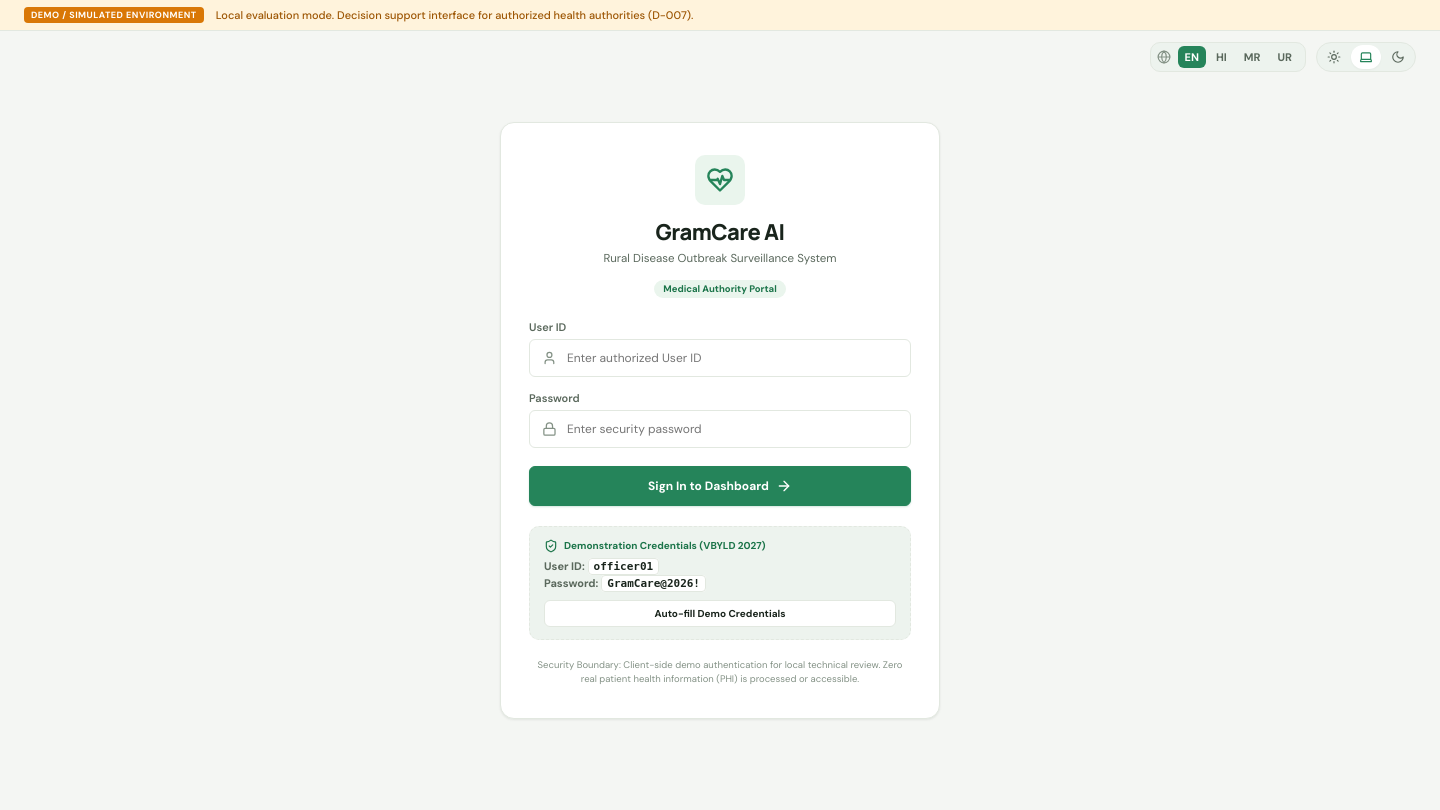
Test case: GramCare AI Dashboard MVP — 100+ Synthetic Patients & Authentication Verification › Authentication & Protected Route Security › authenticates with predefined demo credentials and navigates to dashboard
Auto-fill demo credentials or type them in
What coordinates should you click on to do the following:
click the button with test id "auto-fill-demo-creds"
I would click on:
 (720, 613)
Its box is left=544, top=600, right=896, bottom=627.
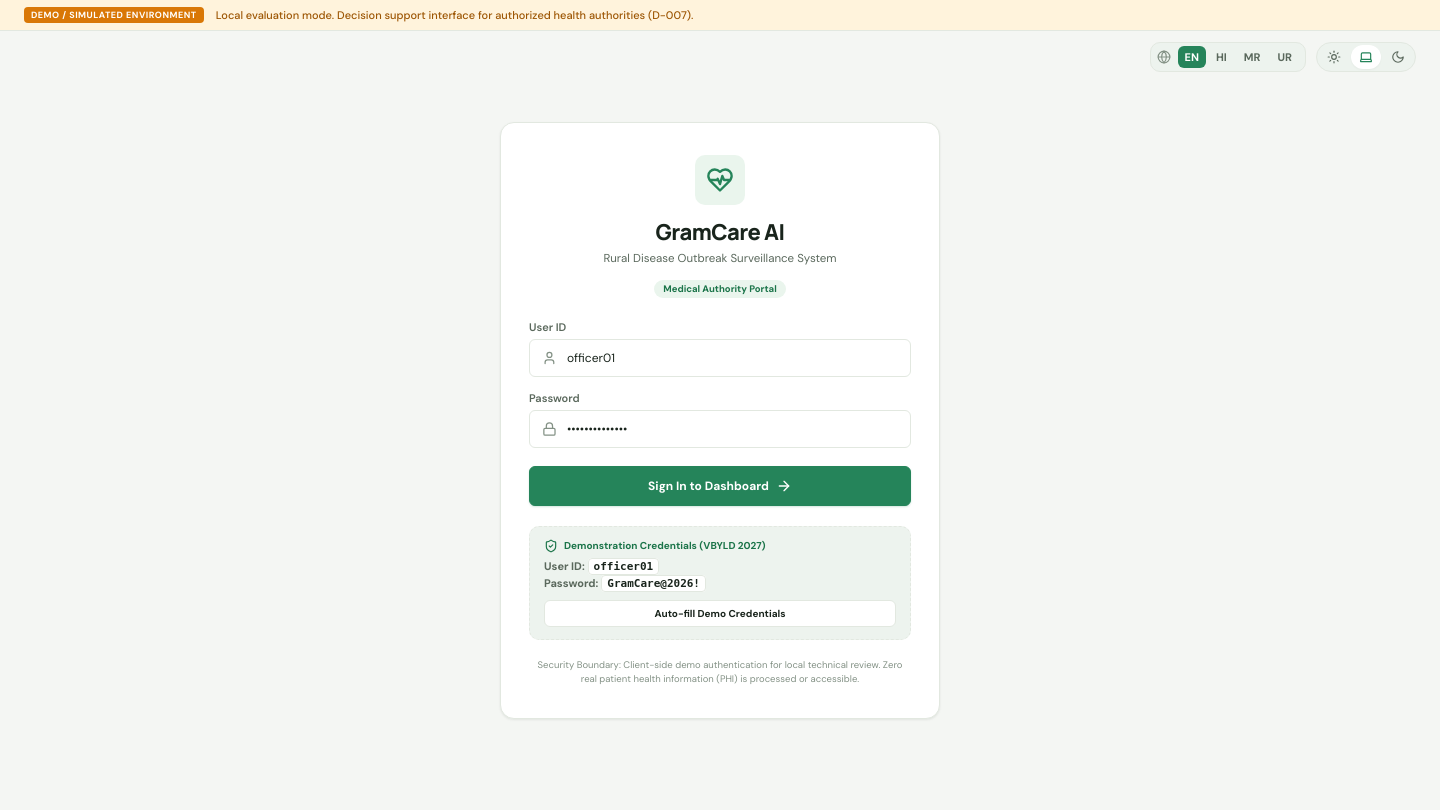
Check: the field with test id "login-user-id" holds "officer01", box left=567, top=340, right=898, bottom=376
Check: the password field with test id "login-password" holds "GramCare@2026!", box left=567, top=411, right=898, bottom=447
What coordinates should you click on to do the following:
click the button with test id "login-submit-button"
I would click on:
 (720, 486)
Its box is left=529, top=466, right=911, bottom=506.
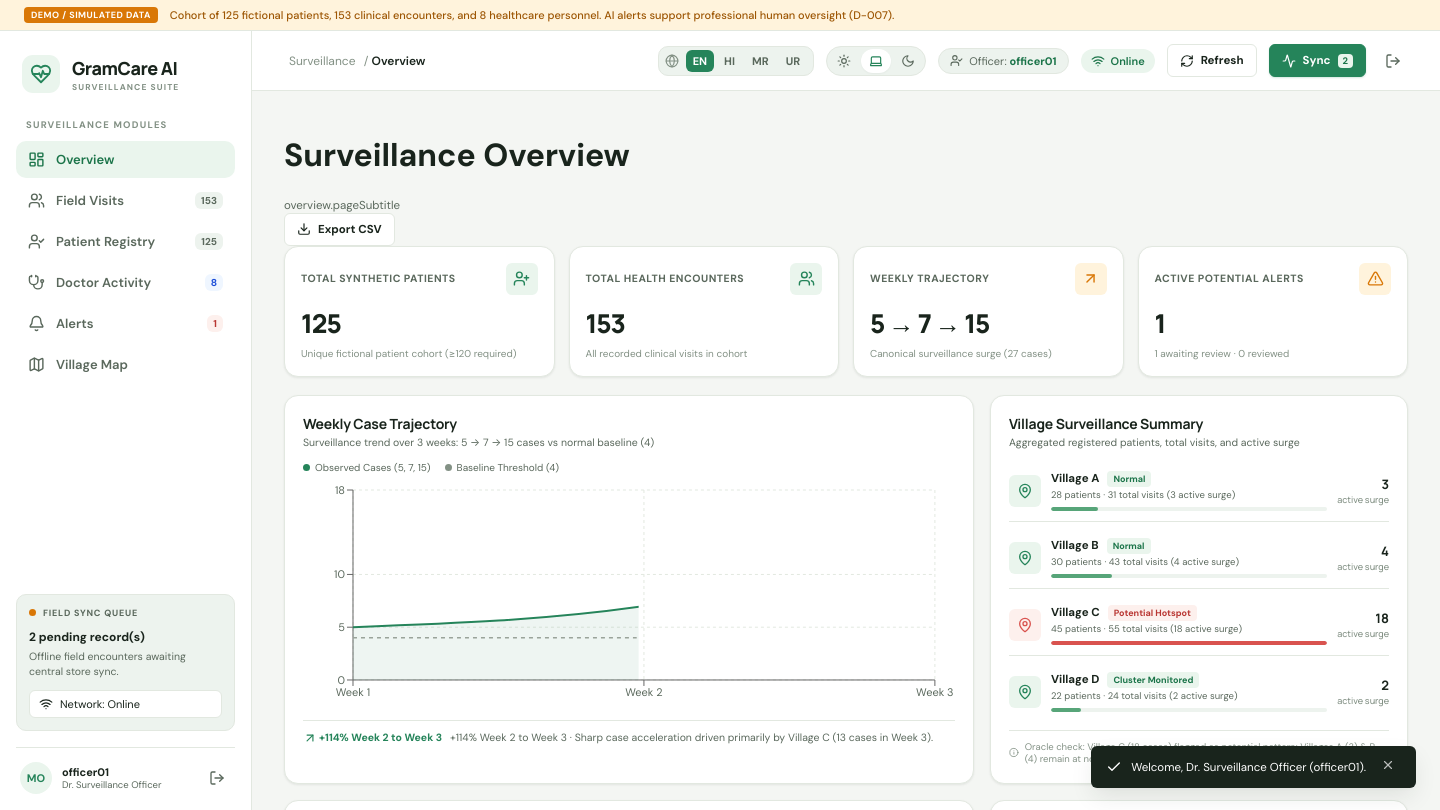
Check: the text with test id "logged-in-user-id" reads "officer01", box left=62, top=765, right=109, bottom=779
Check: the element with test id "topbar-user-badge" shows "officer01", box left=1010, top=54, right=1056, bottom=68
